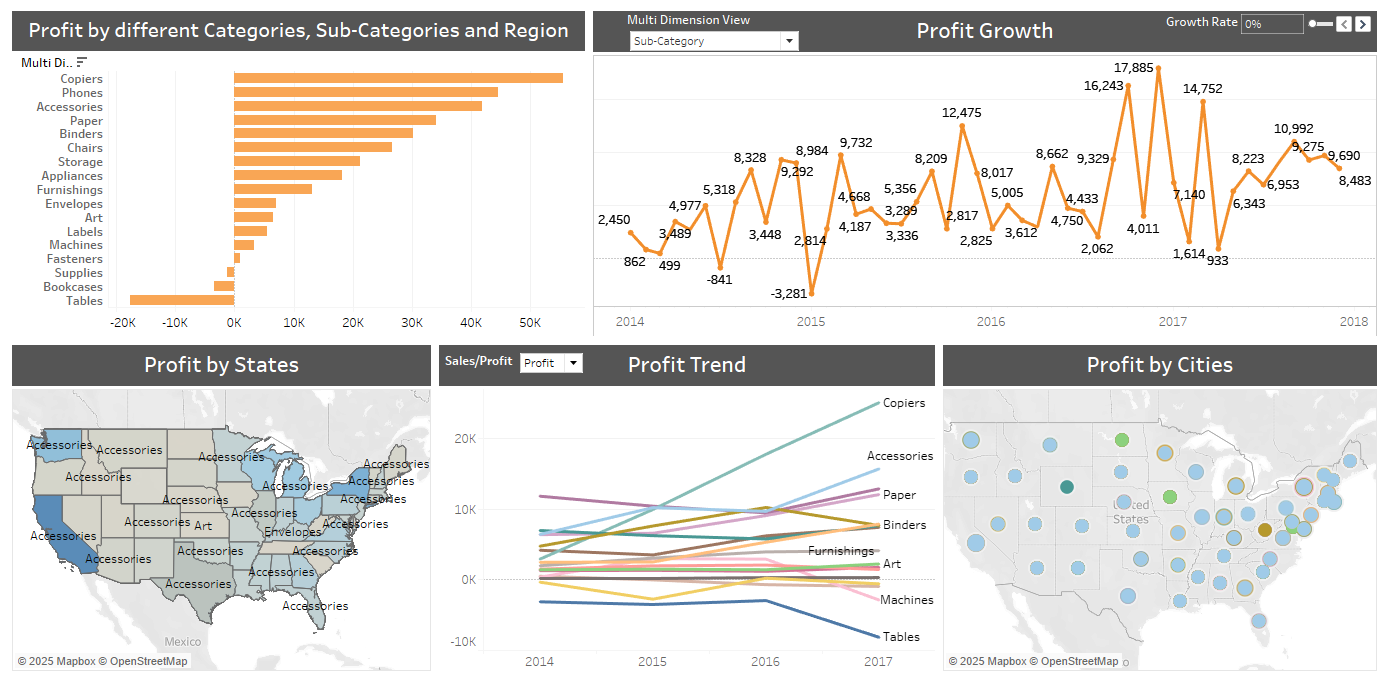

The dashboard page shown, as its layout file describes it:
{"tool":"tableau","page":{"name":"Superstore Dashboard","canvas":[1000,1000],"units":"permille","ordinal":0},"visuals":[{"type":"worksheet","title":"Sales/Profit by Different Aspects","mark":"Automatic","rows":["Calculation_827536486978531328"],"cols":["Calculation_827536487000260609"],"box":[8.1,15.3,416.3,484.7]},{"type":"worksheet","title":"Sales/Profit Change","mark":"Automatic","rows":["Calculation_827536487000260609","Calculation_827536487007801346"],"cols":["Order Date"],"box":[424.4,15.3,567.5,484.7]},{"type":"parameter","param":"[Parameters].[Parameter 1]","box":[451.4,17.5,126,62.9]},{"type":"parameter","param":"[Parameters].[Parameter 3]","box":[839.5,17.5,149.8,57]},{"type":"worksheet","title":"Sales/Proft by States","mark":"Automatic","box":[8.1,500,305.6,484.7]},{"type":"worksheet","title":"Sales/Profit Trend","mark":"Automatic","rows":["Calculation_827536487000260609"],"cols":["Order Date"],"box":[313.7,500,361.5,484.7]},{"type":"worksheet","title":"Sales/Profit by Cities","mark":"Automatic","box":[675.2,500,316.7,484.7]},{"type":"parameter","param":"[Parameters].[Parameter 2]","box":[320.4,513.2,101.5,40.9]}]}

Visuals, with their boxes on the dashboard's canvas, which has no fixed pixel size, in thousandths of its width and height (x1, y1, x2, y2). These are canvas units, not pixel positions in the 1387x681 screenshot, which may show the page scaled, cropped or inside an application window:
"Sales/Profit by Different Aspects" worksheet: 8/15/424/500
"Sales/Profit Change" worksheet: 424/15/992/500
parameter: 451/18/577/80
parameter: 840/18/989/74
"Sales/Proft by States" worksheet: 8/500/314/985
"Sales/Profit Trend" worksheet: 314/500/675/985
"Sales/Profit by Cities" worksheet: 675/500/992/985
parameter: 320/513/422/554
